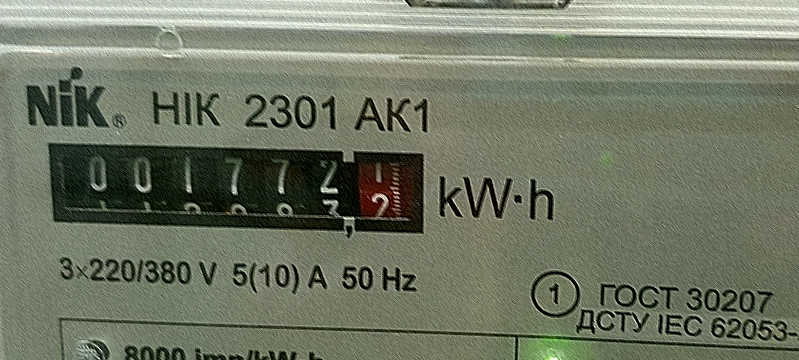0: (82, 151, 111, 192), (129, 153, 154, 193)
1: (178, 154, 196, 193), (370, 159, 385, 185)
2: (316, 158, 340, 196), (365, 189, 390, 219)
3: (319, 196, 342, 218)
7: (221, 154, 245, 196), (267, 156, 290, 195)
screen: (32, 123, 444, 252)
